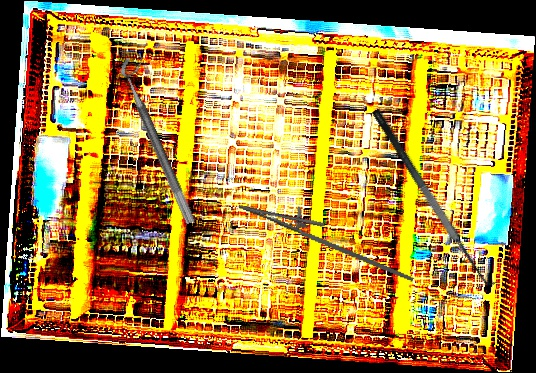Fixation Ring: (116, 52, 210, 226)
Needle Holder: (231, 189, 425, 283)
Spatula Surgical: (370, 98, 504, 294)
